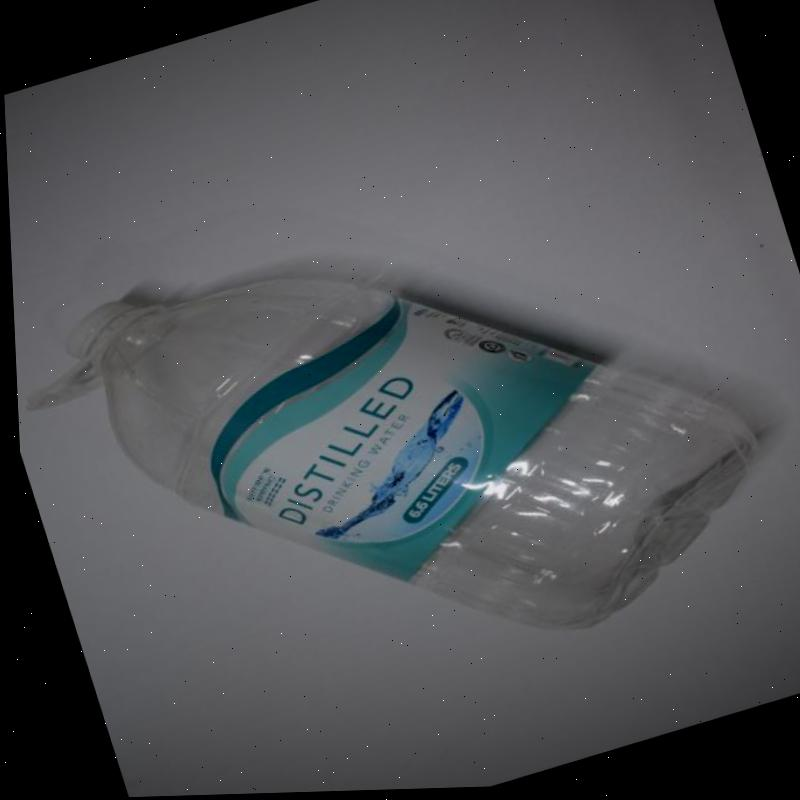botella: (45, 130, 800, 752)
